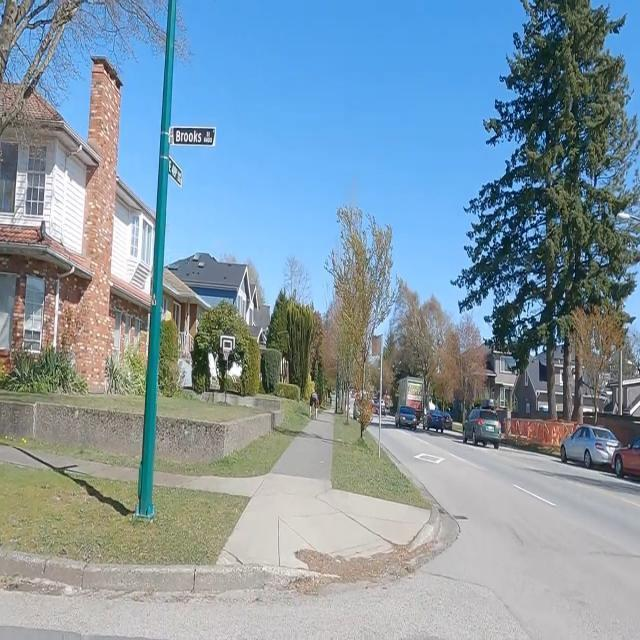Automobile: (561, 425, 618, 468), (463, 407, 501, 447), (614, 437, 639, 479), (426, 408, 451, 432), (395, 407, 415, 429)
Obstacle: (310, 392, 319, 418)
Road: (0, 429, 639, 639)
Sidewalk: (218, 415, 432, 569), (156, 472, 264, 497), (37, 453, 133, 480), (0, 445, 45, 468)
